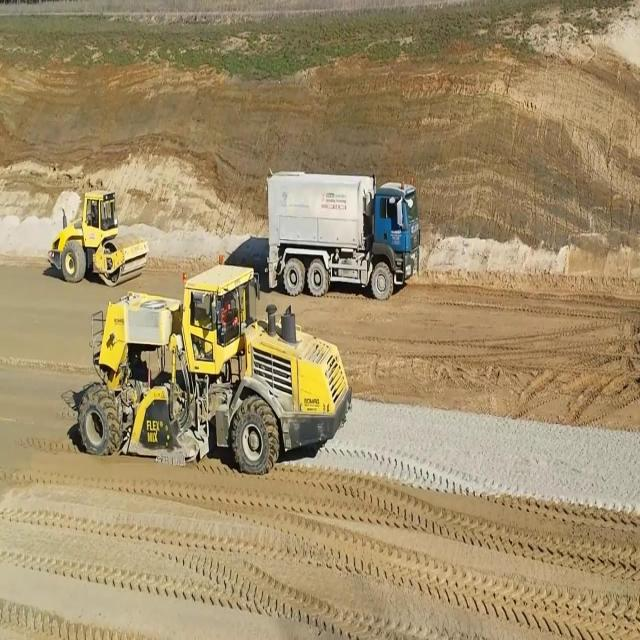Dump Truck: (262, 164, 420, 303)
Roller: (46, 180, 150, 286)
